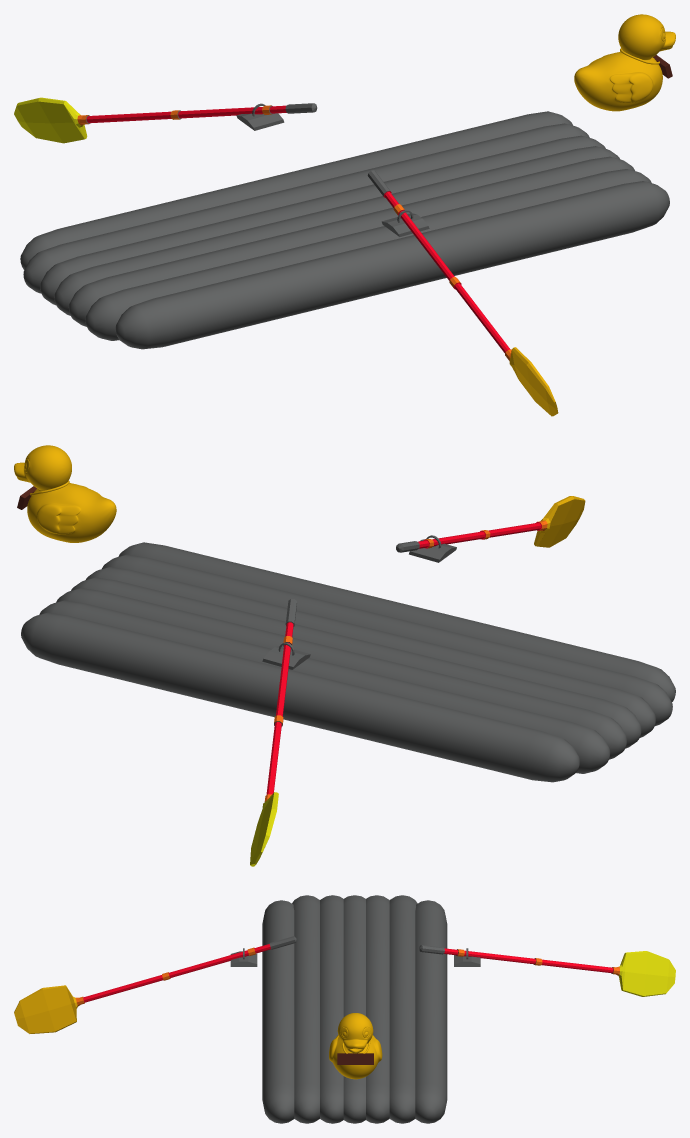
File: RobbertoBoat.fbx
The picture shows the model from 3 angles, top to bottom: view 1: azimuth 30°, elevation 25°; view 2: azimuth 150°, elevation 25°; view 3: azimuth 270°, elevation 25°; orthographic projection. The views are drawn at different scales.
Visible parts, largest first — view 1: Sphere.003, Rubberto, Cylinder.001, Cylinder.007, Cube; view 2: Sphere.003, Rubberto, Cylinder.007, Cylinder.001, Cube; view 3: Sphere.003, Cylinder.007, Cylinder.001, Rubberto, Cube.
Part boxes in pixels (x1=…): Sphere.003: x1=20, y1=111, x2=669, y2=349; Rubberto: x1=574, y1=14, x2=675, y2=111; Cylinder.001: x1=14, y1=97, x2=317, y2=143; Cylinder.007: x1=367, y1=170, x2=558, y2=416; Cube: x1=236, y1=103, x2=429, y2=236; Sphere.003: x1=21, y1=542, x2=675, y2=782; Rubberto: x1=14, y1=445, x2=116, y2=542; Cylinder.007: x1=396, y1=496, x2=585, y2=552; Cylinder.001: x1=250, y1=599, x2=296, y2=866; Cube: x1=262, y1=535, x2=456, y2=669; Sphere.003: x1=262, y1=895, x2=447, y2=1123; Cylinder.007: x1=14, y1=936, x2=296, y2=1033; Cylinder.001: x1=419, y1=945, x2=675, y2=996; Rubberto: x1=329, y1=1013, x2=382, y2=1079; Cube: x1=230, y1=948, x2=480, y2=966.
Size of the model in its own units: 605 by 160 by 726.
